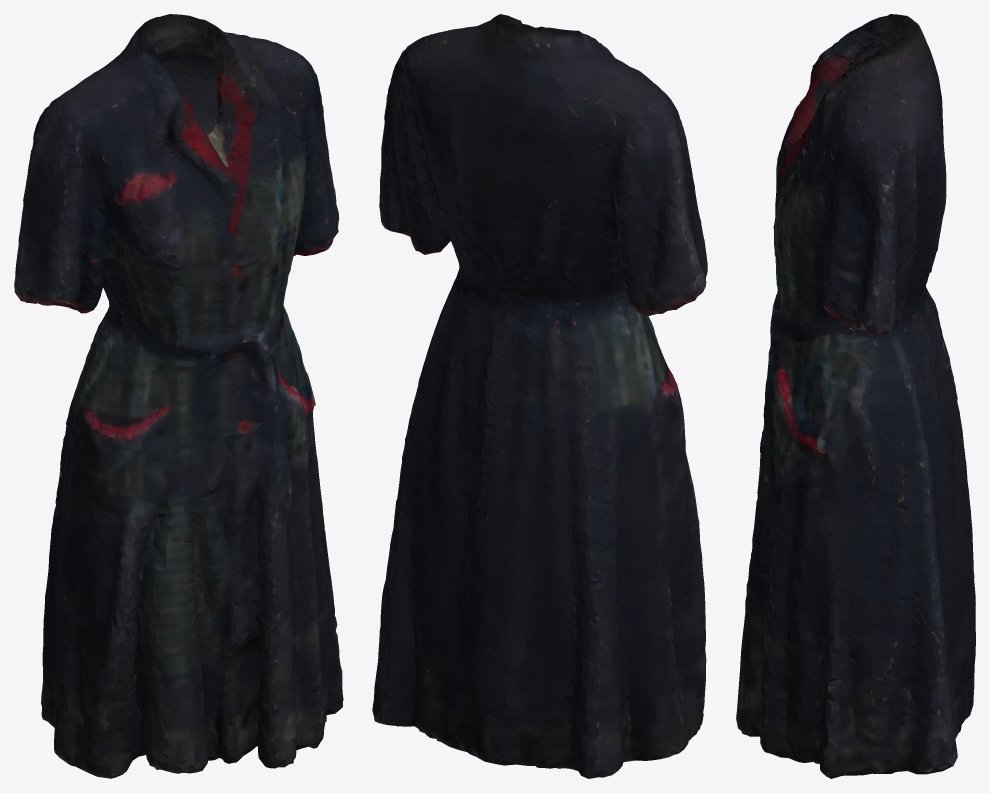
The picture shows the model from 3 angles, left to right: view 1: azimuth 30°, elevation 25°; view 2: azimuth 150°, elevation 25°; view 3: azimuth 270°, elevation 25°; orthographic projection. The views are drawn at different scales.
Visible parts, largest first — view 1: geometry_0; view 2: geometry_0; view 3: geometry_0.
Boxes of the visible parts, x1=… form: geometry_0: x1=14, y1=14, x2=343, y2=778; geometry_0: x1=372, y1=14, x2=707, y2=778; geometry_0: x1=736, y1=14, x2=975, y2=778.
Size of the model in its own units: 0.4719 by 1 by 0.3146.
1 material, 1 textured.
